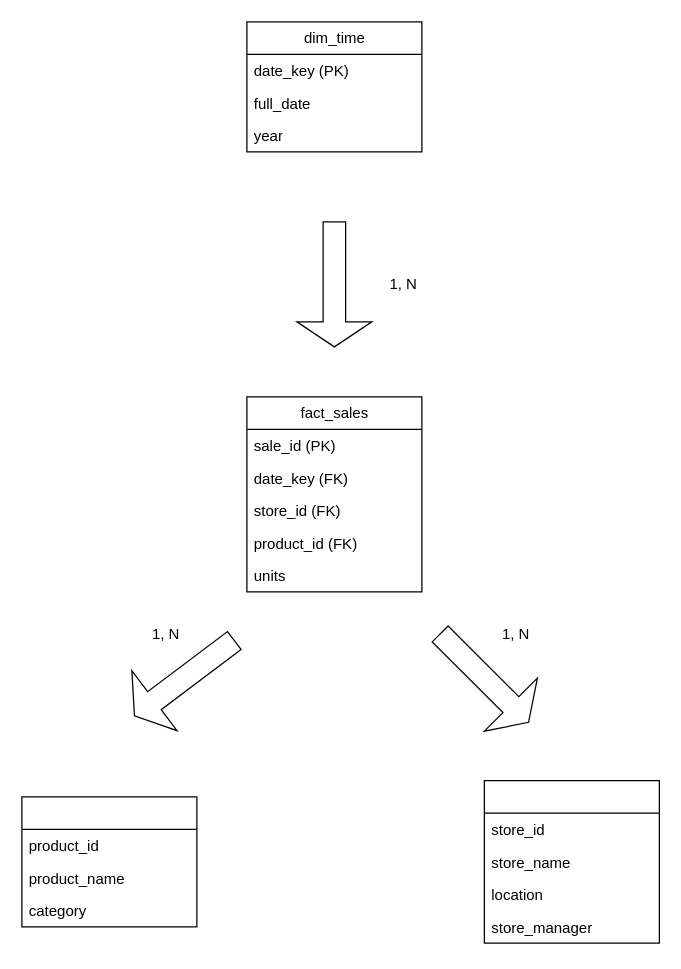
Some shapes in this 681 by 969 pixel diagram are drawn without their labels. Here are the shapes that lost their labels. From the top down, the box of each, then its label:
(21, 796, 197, 927): dim _product
(483, 779, 659, 943): dim_store
